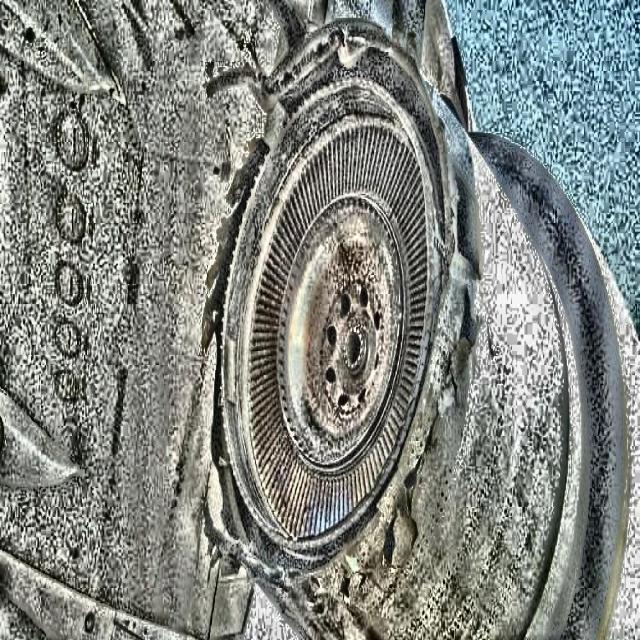crack: (338, 285, 481, 607)
